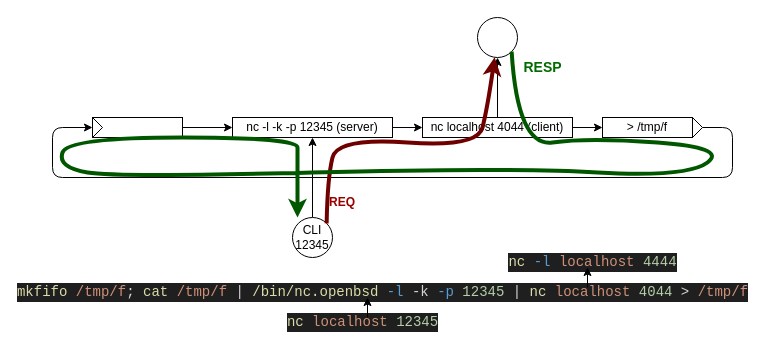
Some shapes in this 765 by 355 pixel diagram are drawn without their labels. Here are the shapes that lost their labels. From the top down, the centre of each, then its label:
[497,37]: SER 4044
[137,127]: cat /tmp/f
